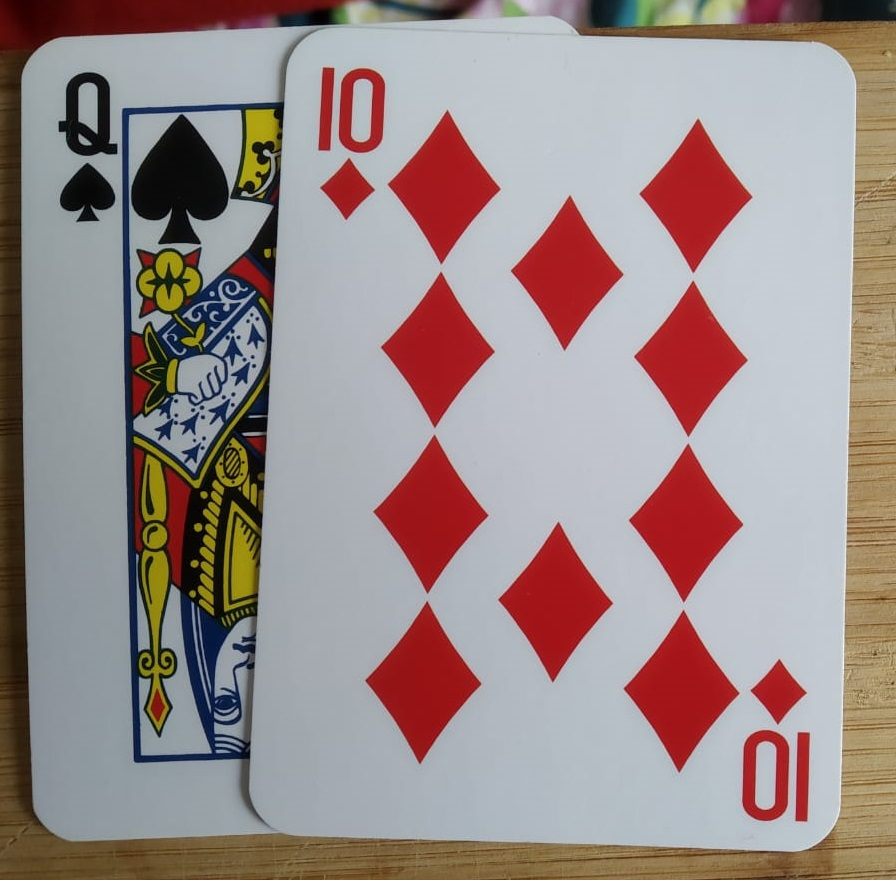queen: (4, 6, 652, 880)
ten: (241, 21, 865, 854)
